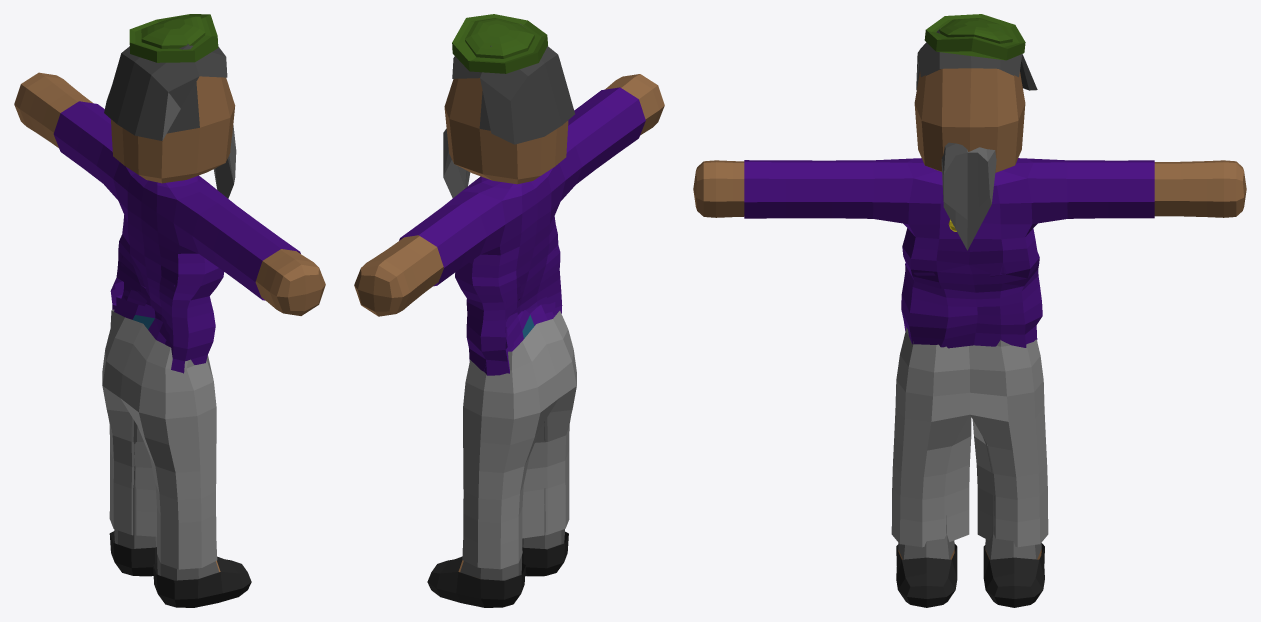
The model's file is stylizedHumanRiggedAllApplied.glb.
The picture shows the model from 3 angles, left to right: view 1: azimuth 30°, elevation 25°; view 2: azimuth 150°, elevation 25°; view 3: azimuth 270°, elevation 25°; orthographic projection.
Visible parts, largest first — view 1: Character; view 2: Character; view 3: Character.
Boxes of the visible parts, x1,y1,x2,y2 form: Character: (14, 14, 325, 607); Character: (354, 14, 664, 607); Character: (693, 14, 1246, 607).
Size of the model in its own units: 0.3116 by 1.52 by 1.33.
Materials: 1 (1 with a texture image).
